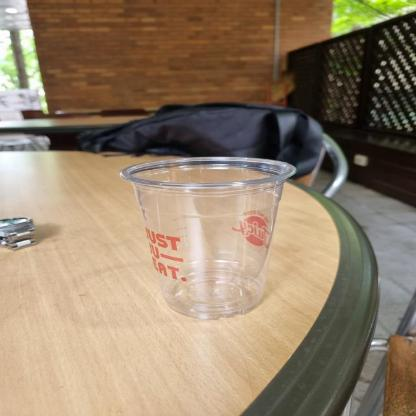Plastic Cup: (123, 162, 299, 320)
